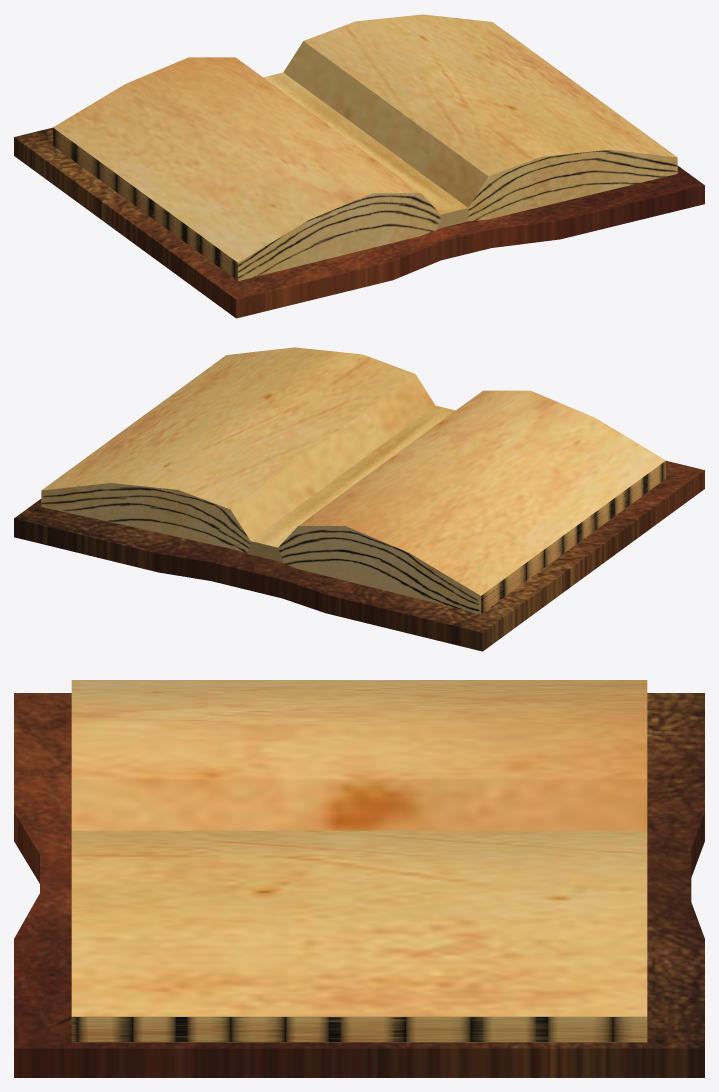
Rendered from Book.FBX.
3 views of the same model, one above another, from view 1: azimuth 30°, elevation 25°; view 2: azimuth 150°, elevation 25°; view 3: azimuth 270°, elevation 25° (orthographic). The views are drawn at different scales.
Parts seen in each view (by area): view 1: Book; view 2: Book; view 3: Book.
Part boxes in pixels (x1=…): Book: x1=14, y1=14, x2=704, y2=318; Book: x1=14, y1=347, x2=704, y2=651; Book: x1=14, y1=680, x2=704, y2=1077.
Bounding box in the file's own units: 185 × 27.84 × 152.
1 material, 1 textured.
